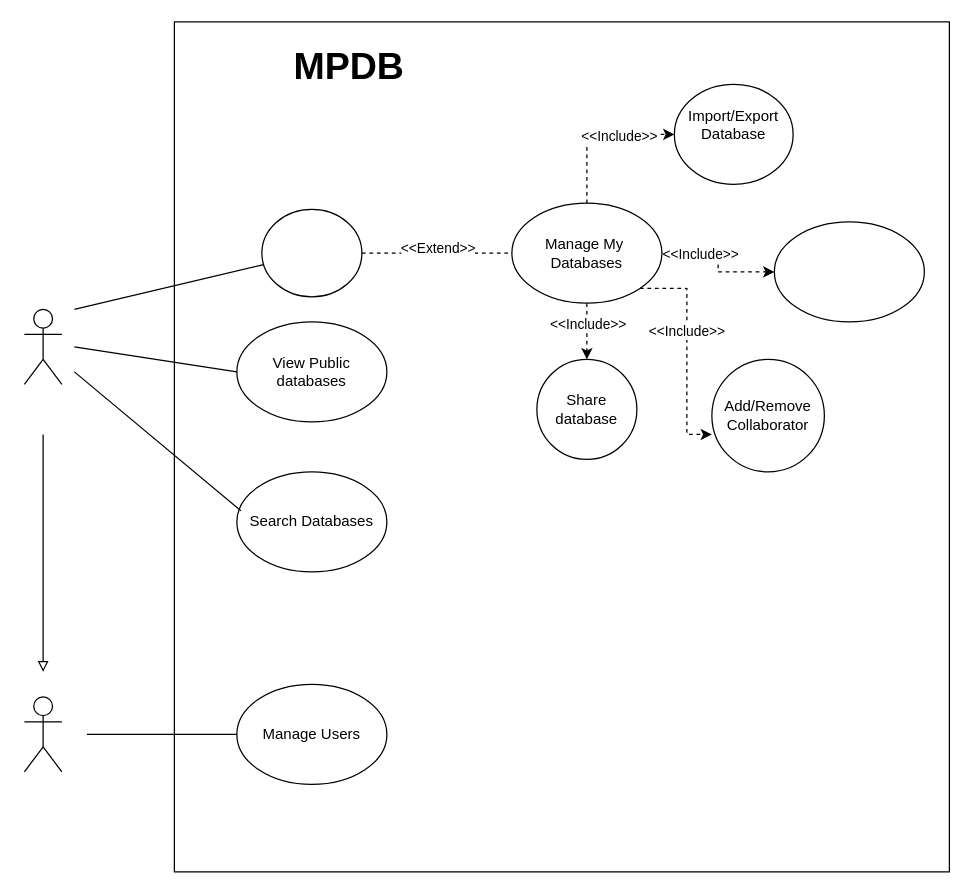
Some shapes in this 971 by 894 pixel diagram are drawn without their labels. The box of each missing label's shape, as (x1, y1, x2, y2) in pixels:
Admin: (23, 696, 62, 772)
CRUD on data/collections: (773, 221, 924, 322)
Login / Register: (261, 208, 362, 297)
User: (23, 308, 62, 384)
